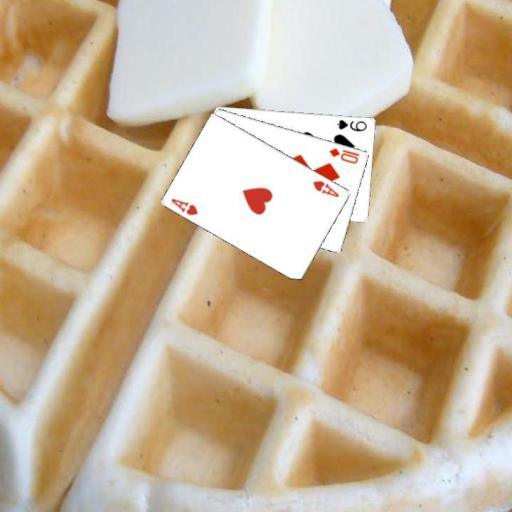10D: (327, 144, 362, 165)
9S: (335, 117, 369, 133)
AH: (168, 195, 200, 217), (310, 177, 341, 198)
